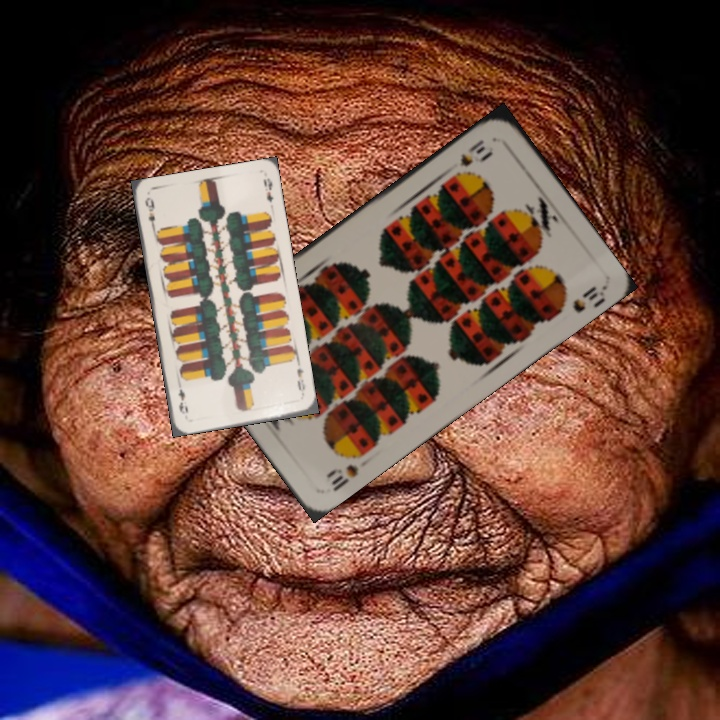E9: (141, 193, 158, 233), (293, 364, 309, 394)
S10: (322, 459, 361, 494), (456, 135, 496, 169)
